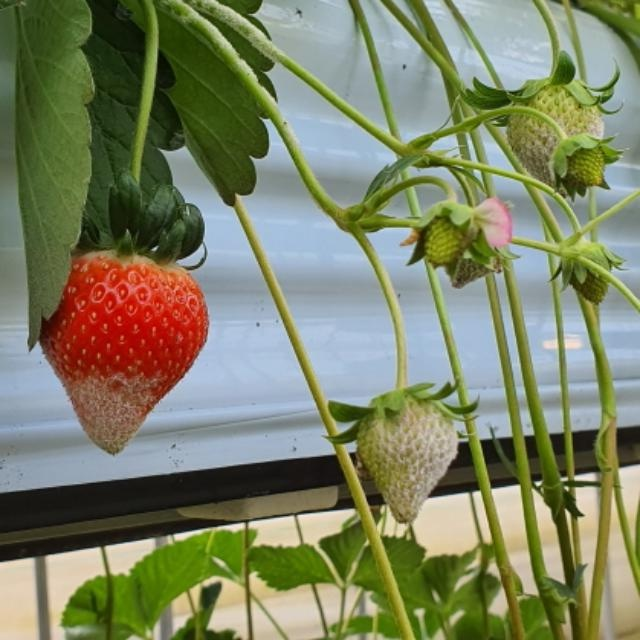Powdery Mildew Fruit: (36, 343, 167, 454), (356, 394, 456, 521), (506, 85, 602, 193)
